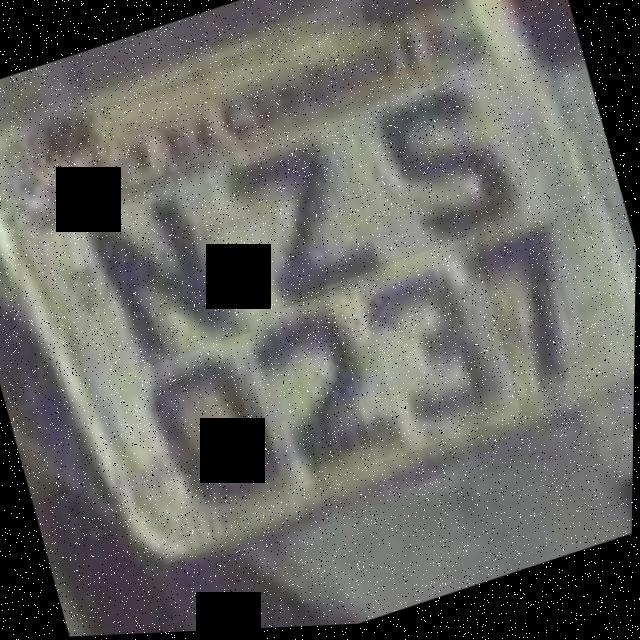0: (118, 317, 300, 540)
2: (226, 281, 409, 497)
3: (325, 239, 527, 468)
7: (433, 209, 621, 434)
N: (68, 160, 254, 378)
S: (358, 75, 527, 270)
Z: (220, 125, 385, 319)
